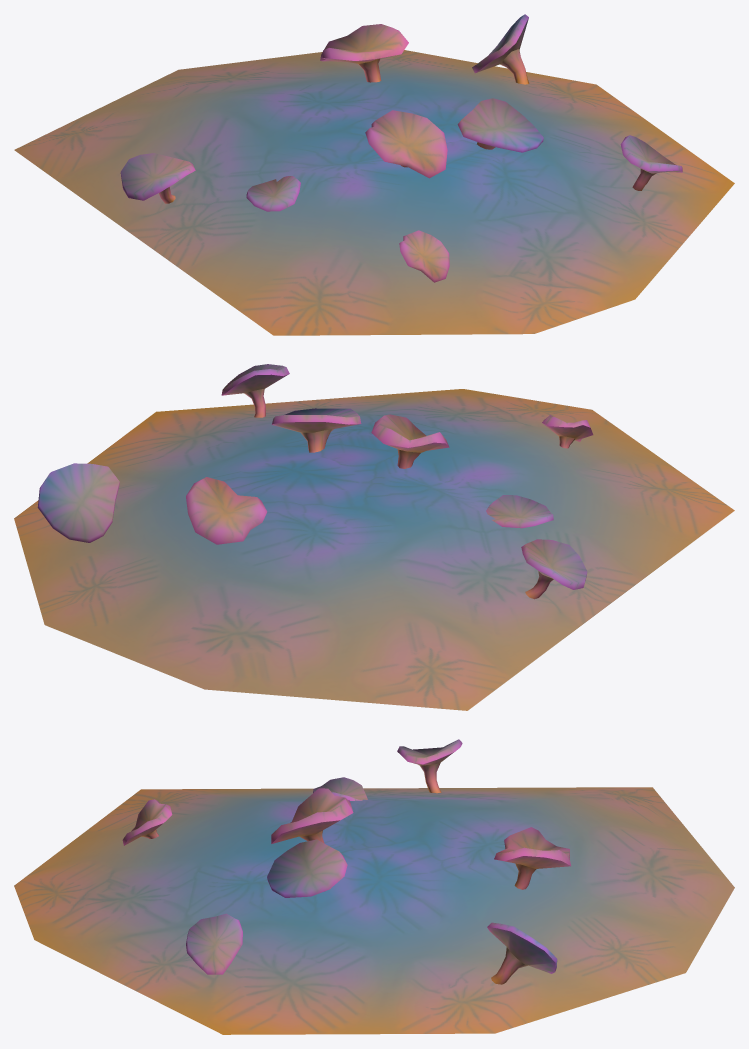
File: Spaceplant_Undergrowth_A_Cluster_C.fbx
3 renders of one model, top to bottom at view 1: azimuth 30°, elevation 25°; view 2: azimuth 150°, elevation 25°; view 3: azimuth 270°, elevation 25°, orthographic. The views are drawn at different scales.
Visible parts, largest first — view 1: Geometry_Spaceplant_Undergrowth_A_Cluster_C_Base_LOD00, Geometry_Spaceplant_Undergrowth_A_Cluster_C_Detail_LOD00; view 2: Geometry_Spaceplant_Undergrowth_A_Cluster_C_Base_LOD00, Geometry_Spaceplant_Undergrowth_A_Cluster_C_Detail_LOD00; view 3: Geometry_Spaceplant_Undergrowth_A_Cluster_C_Base_LOD00, Geometry_Spaceplant_Undergrowth_A_Cluster_C_Detail_LOD00.
Boxes of the visible parts, x1,y1,x2,y2 form: Geometry_Spaceplant_Undergrowth_A_Cluster_C_Base_LOD00: [14, 50, 734, 335]; Geometry_Spaceplant_Undergrowth_A_Cluster_C_Detail_LOD00: [120, 14, 682, 282]; Geometry_Spaceplant_Undergrowth_A_Cluster_C_Base_LOD00: [14, 389, 734, 710]; Geometry_Spaceplant_Undergrowth_A_Cluster_C_Detail_LOD00: [37, 364, 593, 599]; Geometry_Spaceplant_Undergrowth_A_Cluster_C_Base_LOD00: [14, 787, 734, 1034]; Geometry_Spaceplant_Undergrowth_A_Cluster_C_Detail_LOD00: [122, 739, 570, 984].
Size of what is drawn, in the model's own units: 246 by 45.02 by 302.
